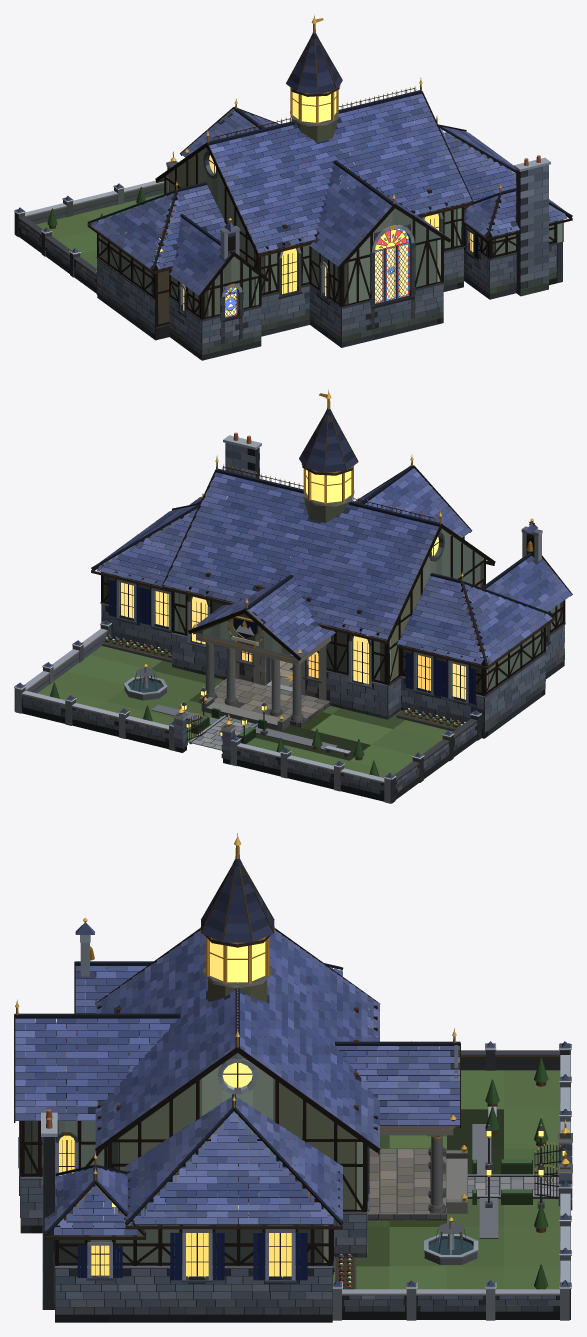
File: manor_source.glb
The picture shows the model from 3 angles, top to bottom: view 1: azimuth 30°, elevation 25°; view 2: azimuth 150°, elevation 25°; view 3: azimuth 270°, elevation 25°; orthographic projection. The views are drawn at different scales.
Visible parts, largest first — view 1: ManorRoof, ManorShell, ManorGrounds, ManorGlow, ManorTrim, G_INT_Timber; view 2: ManorRoof, ManorShell, ManorGrounds, ManorTrim, ManorGlow, G_INT_Timber; view 3: ManorRoof, ManorShell, ManorGrounds, ManorGlow, ManorTrim, G_INT_Timber.
Part boxes in pixels (<box>): ManorRoof: <box>87,33,572,297</box>; ManorShell: <box>96,99,563,360</box>; ManorGrounds: <box>14,151,177,294</box>; ManorGlow: <box>168,91,414,317</box>; ManorTrim: <box>184,14,409,317</box>; G_INT_Timber: <box>223,97,441,236</box>; ManorRoof: <box>91,409,572,669</box>; ManorShell: <box>100,432,565,738</box>; ManorGrounds: <box>14,619,481,803</box>; ManorTrim: <box>193,389,534,721</box>; ManorGlow: <box>181,470,532,735</box>; G_INT_Timber: <box>190,477,426,623</box>; ManorRoof: <box>14,858,460,1239</box>; ManorShell: <box>18,935,467,1322</box>; ManorGrounds: <box>332,1041,572,1320</box>; ManorGlow: <box>210,941,564,1175</box>; ManorTrim: <box>15,833,467,1201</box>; G_INT_Timber: <box>116,944,358,1195</box>.
Size of the model in its own units: 51.25 by 34.1 by 47.15.
